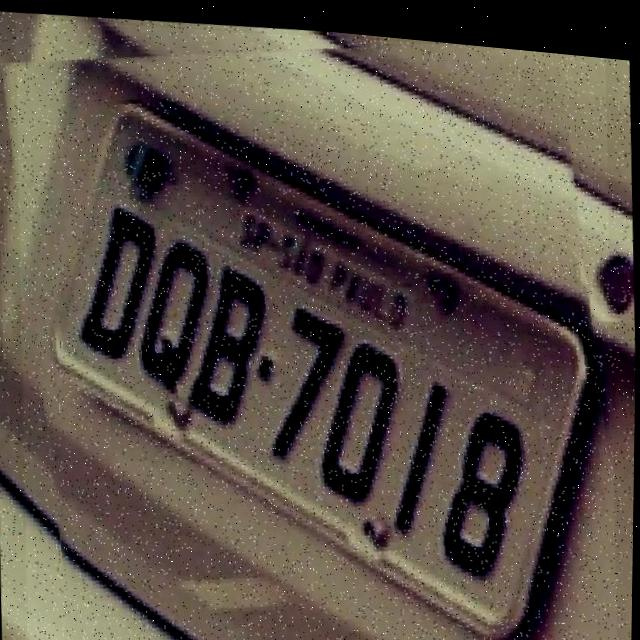LicensePlate: (8, 1, 627, 640)
